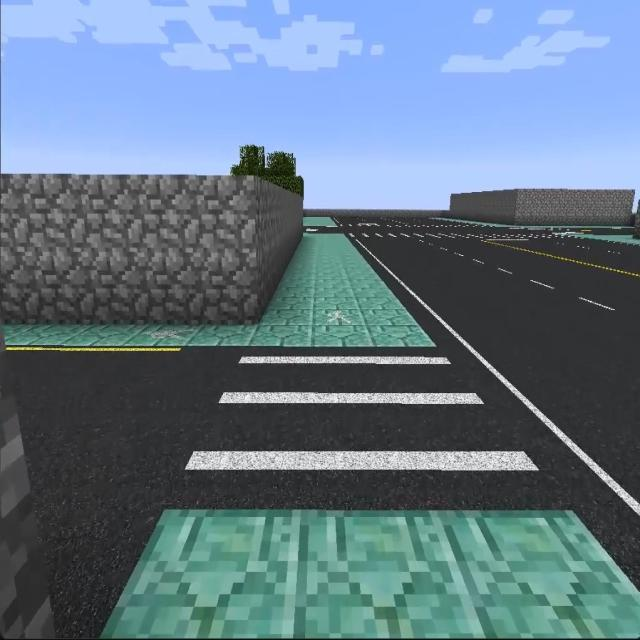crosswalk: (169, 349, 574, 502), (351, 232, 566, 242), (304, 217, 336, 226)
road: (356, 238, 638, 563), (14, 356, 229, 627)
sidewalk: (102, 510, 639, 639), (4, 228, 435, 346), (433, 218, 581, 232), (585, 235, 639, 244), (585, 224, 632, 233)
